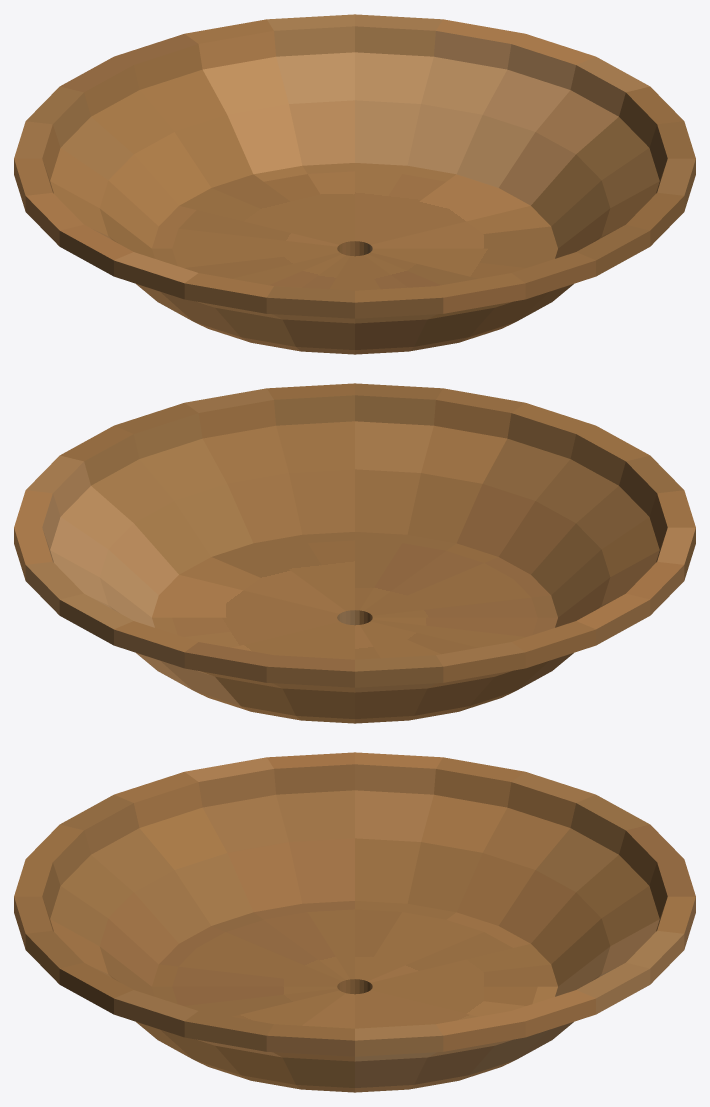
File: vessel-shallow.glb
3 renders of one model, top to bottom at view 1: azimuth 30°, elevation 25°; view 2: azimuth 150°, elevation 25°; view 3: azimuth 270°, elevation 25°, orthographic.
Parts seen in each view (by area): view 1: vessel-shallow/complete-inner-outer-shell-with-drainage; view 2: vessel-shallow/complete-inner-outer-shell-with-drainage; view 3: vessel-shallow/complete-inner-outer-shell-with-drainage.
Boxes of the visible parts, bbox=[...] form: vessel-shallow/complete-inner-outer-shell-with-drainage: bbox=[14, 14, 695, 354]; vessel-shallow/complete-inner-outer-shell-with-drainage: bbox=[14, 383, 695, 723]; vessel-shallow/complete-inner-outer-shell-with-drainage: bbox=[14, 752, 695, 1092].
Size of the model in its own units: 0.3826 by 0.078 by 0.3826.
Materials: 1 (1 with a texture image).
